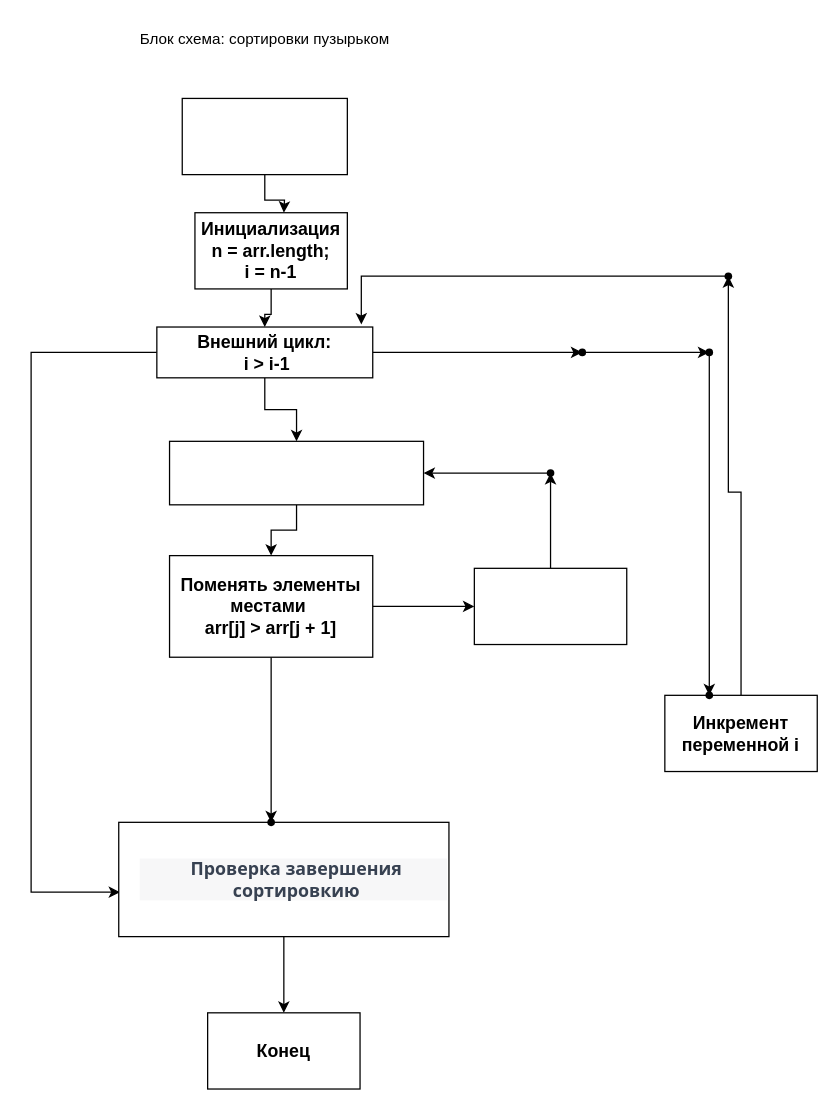
The diagram is 839 pixels wide and 1111 high, and some of its shapes have lost their labels. Each missing label, with the box of its shape:
Внутренний цикл: j < n - i - 1 .: (168, 440, 424, 505)
Инкремент переменной j: (473, 567, 627, 645)
Начало: (181, 97, 347, 175)
